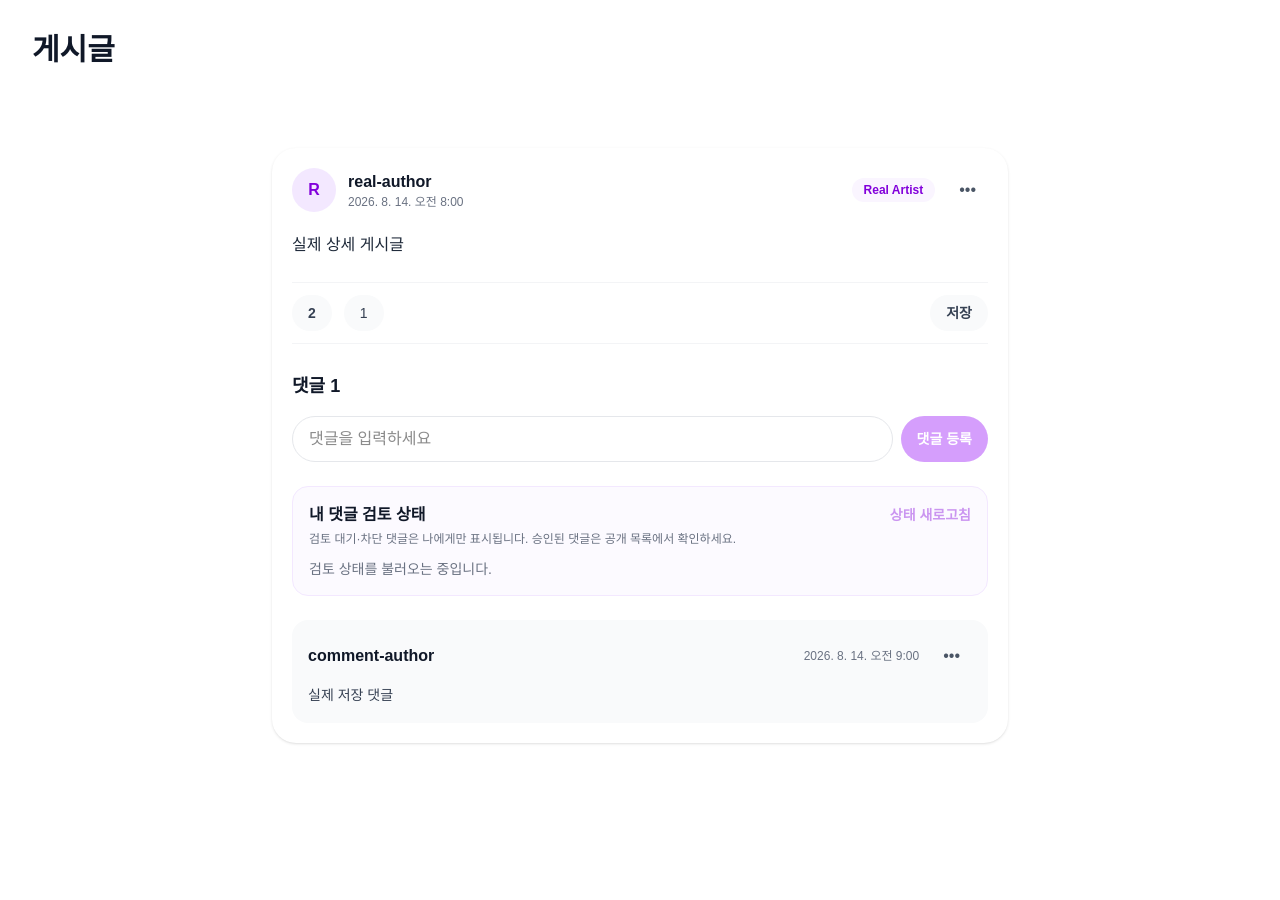
Test: PostDetailPage › keeps a failed deletion in the dialog without removing the post or navigating
The image size is (1280, 900).
Expected: the text "실제 상세 게시글" is shown, [292, 236, 404, 253]
Click the heading named "게시글 작업" at [968, 190], box [959, 181, 976, 198]
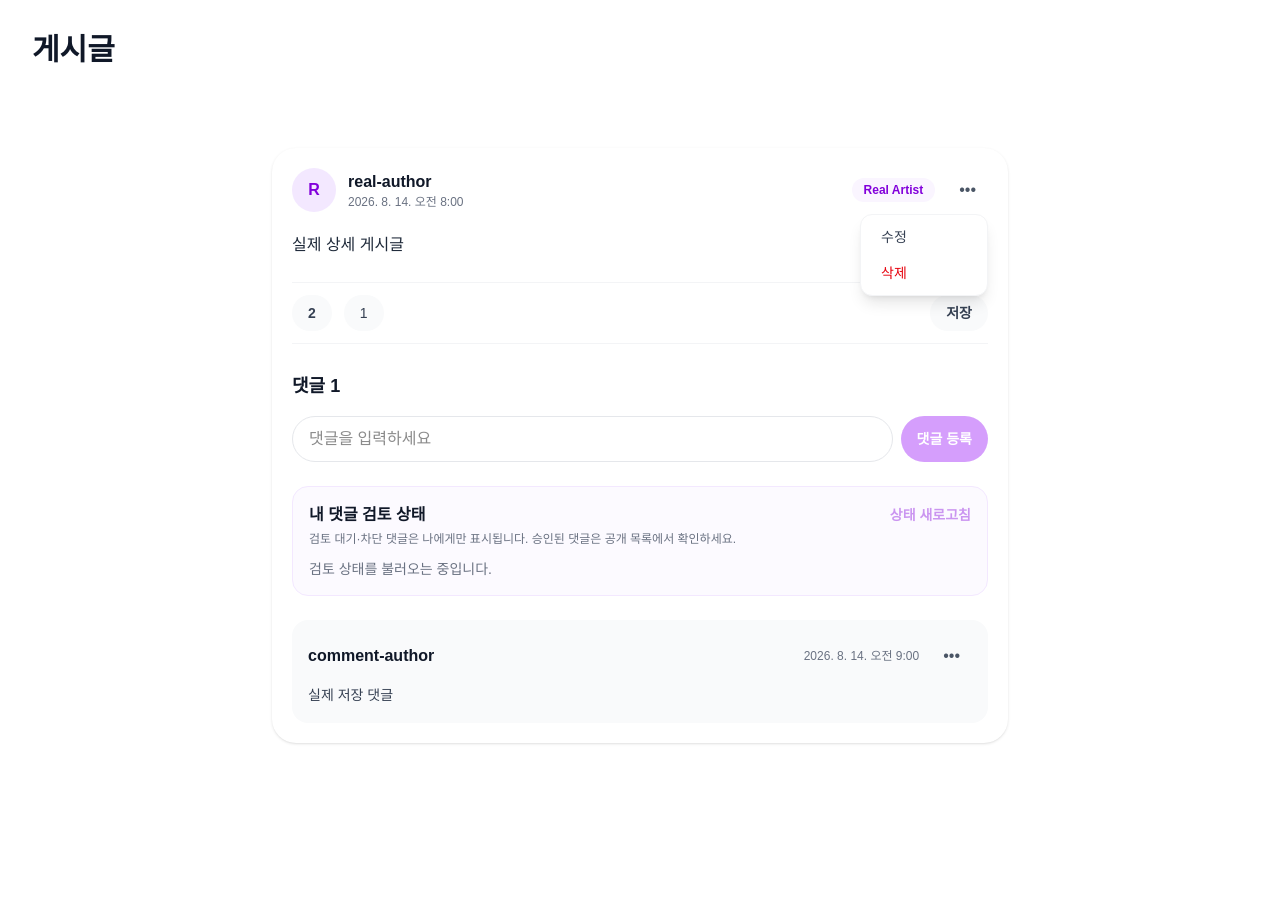
Click the button "삭제" at [924, 273], box [865, 255, 983, 291]
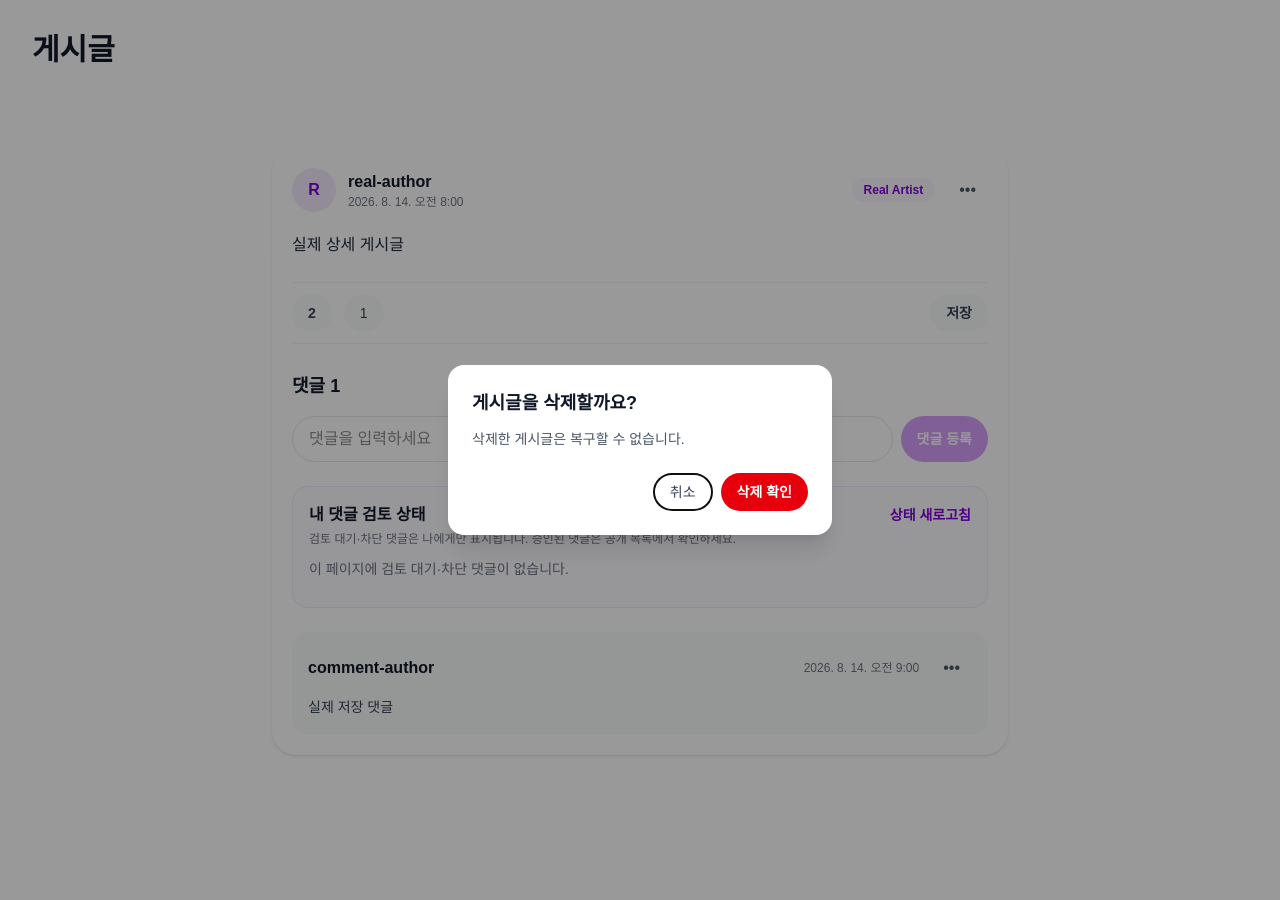
Click the button "삭제 확인" at [764, 492], box [721, 473, 808, 511]
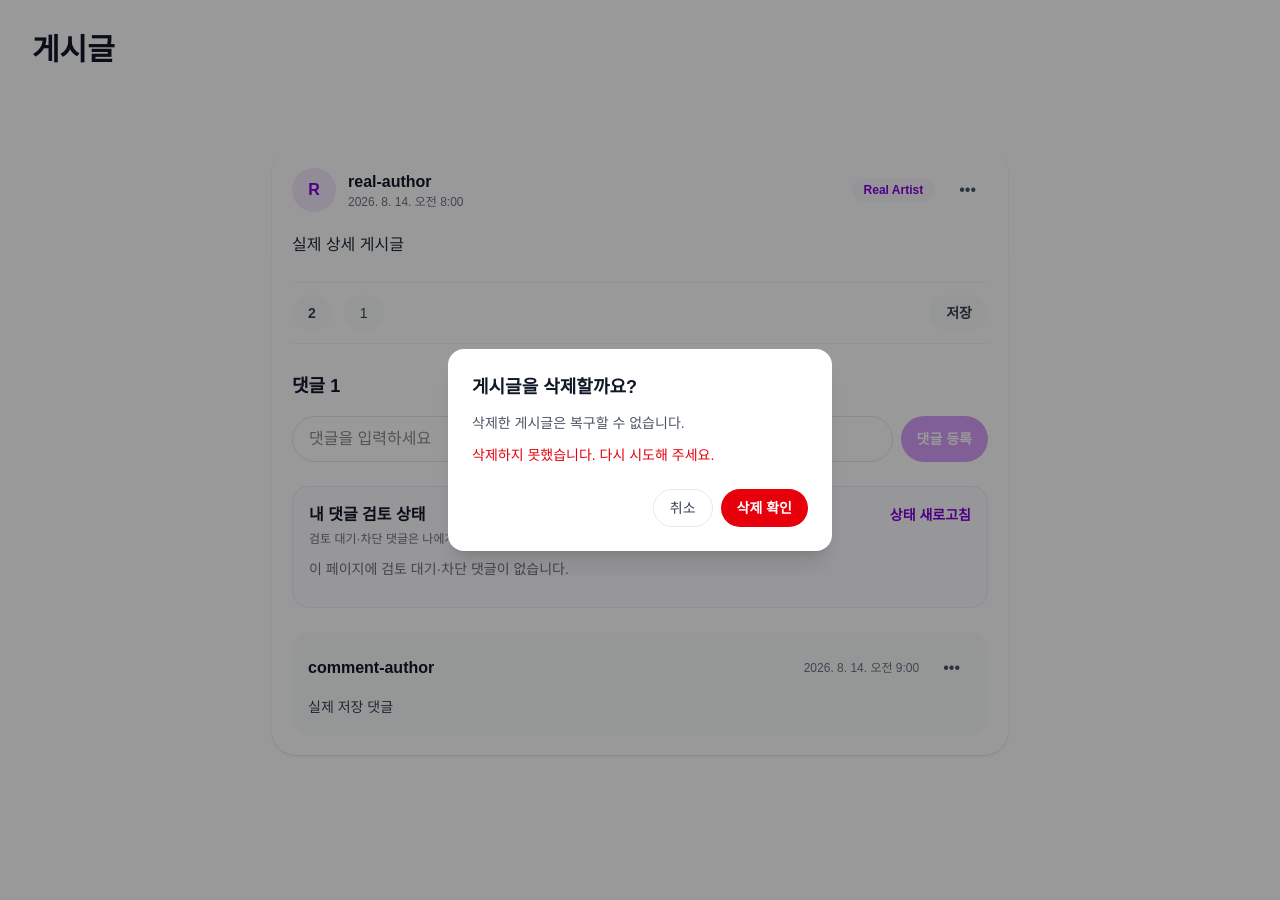
Expected: the text "실제 상세 게시글" is shown, [292, 236, 404, 253]
Now the dialog is shown, box [448, 349, 832, 551]
Now the message shows "삭제하지 못했습니다.", box [472, 447, 714, 463]
